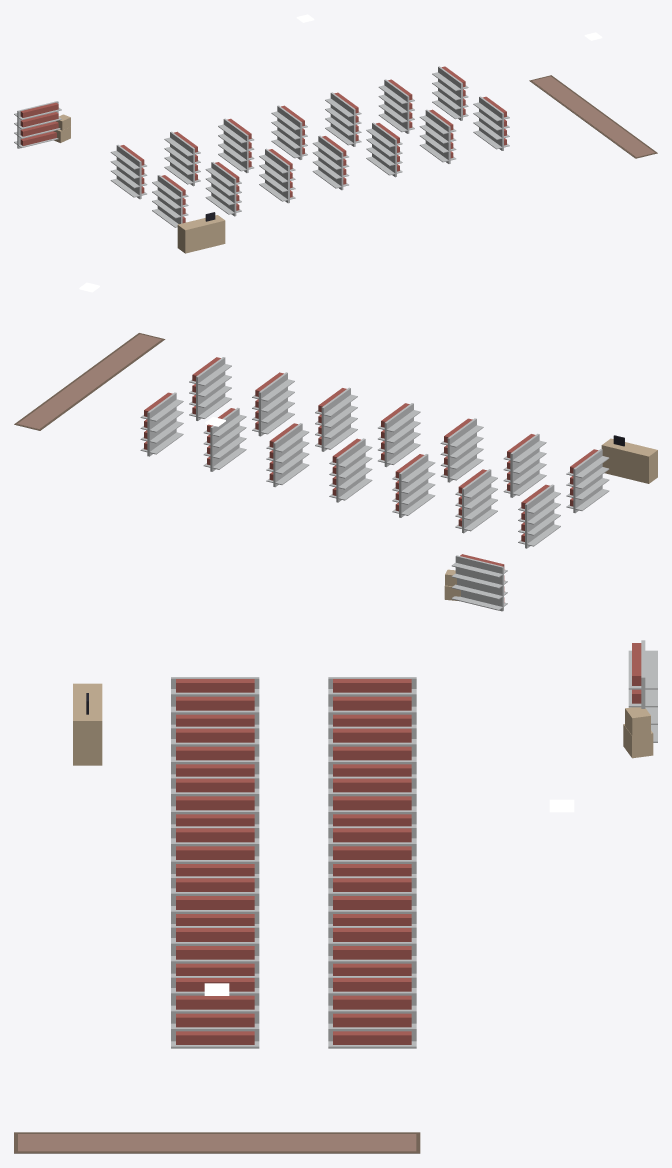
Rendered from fine-s0.glb.
3 renders of one model, top to bottom at view 1: azimuth 30°, elevation 25°; view 2: azimuth 150°, elevation 25°; view 3: azimuth 270°, elevation 25°, orthographic. The views are drawn at different scales.
Visible parts, largest first — view 1: soft-s0, shelving.000, shop-counter.000, shelf.007, shelf.004, shelf.010, shelf.003, shelf.008, shelf.011, shelf.000, shelf.006, shelf.005 (+5 smaller); view 2: soft-s0, shelving.000, shop-counter.000, shelf.006, shelf.004, shelf.000, shelf.008, shelf.013, shelf.002, shelf.005, shelf.012, shelf.001 (+5 smaller); view 3: soft-s0, shelf.012, shelf.013, shelf.002, shelf.004, shelf.006, shelf.003, shelf.007, shelf.005, shelf.000, shelf.001, shelf.008 (+6 smaller).
Boxes of the visible parts, left/top/right/bottom form: soft-s0: left=529, top=75, right=657, bottom=158; shelving.000: left=14, top=101, right=61, bottom=148; shop-counter.000: left=177, top=212, right=225, bottom=253; shelf.007: left=312, top=135, right=349, bottom=190; shelf.004: left=218, top=118, right=254, bottom=172; shelf.010: left=378, top=79, right=414, bottom=133; shelf.003: left=205, top=162, right=241, bottom=216; shelf.008: left=325, top=92, right=361, bottom=146; shelf.011: left=419, top=109, right=456, bottom=163; shelf.000: left=110, top=144, right=147, bottom=199; shelf.006: left=271, top=105, right=307, bottom=159; shelf.005: left=259, top=148, right=295, bottom=203; soft-s0: left=14, top=333, right=165, bottom=430; shelving.000: left=451, top=554, right=507, bottom=611; shop-counter.000: left=601, top=435, right=657, bottom=483; shelf.006: left=329, top=438, right=372, bottom=502; shelf.004: left=392, top=454, right=435, bottom=517; shelf.000: left=518, top=484, right=560, bottom=548; shelf.008: left=266, top=423, right=309, bottom=487; shelf.013: left=189, top=357, right=231, bottom=420; shelf.002: left=455, top=469, right=497, bottom=533; shelf.005: left=440, top=418, right=483, bottom=482; shelf.012: left=140, top=392, right=183, bottom=456; shelf.001: left=566, top=449, right=609, bottom=513; soft-s0: left=14, top=1132, right=420, bottom=1153; shelf.012: left=328, top=976, right=416, bottom=1048; shelf.013: left=171, top=976, right=259, bottom=1048; shelf.002: left=328, top=726, right=416, bottom=776; shelf.004: left=328, top=776, right=416, bottom=826; shelf.006: left=328, top=826, right=416, bottom=876; shelf.003: left=171, top=726, right=259, bottom=776; shelf.007: left=171, top=826, right=259, bottom=876; shelf.005: left=171, top=776, right=259, bottom=826; shelf.000: left=328, top=677, right=416, bottom=726; shelf.001: left=171, top=677, right=259, bottom=726; shelf.008: left=328, top=876, right=416, bottom=925.
Size of the model in its own units: 21.29 by 3.47 by 13.11.
